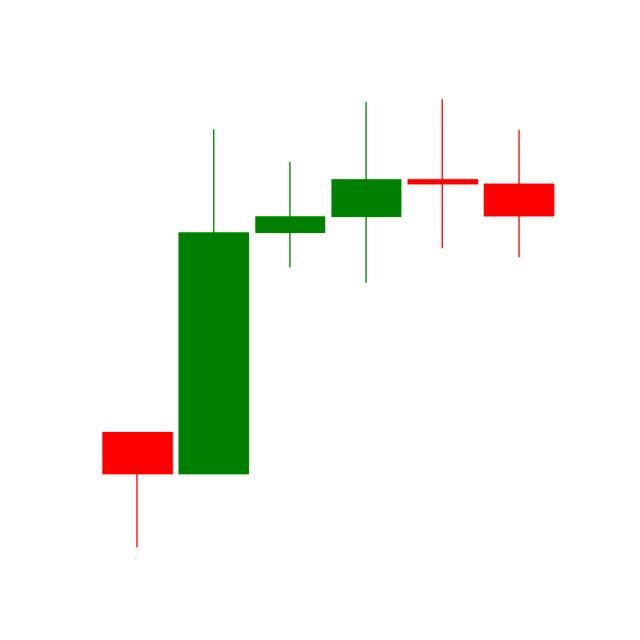Spinning Top: (403, 96, 481, 250)
